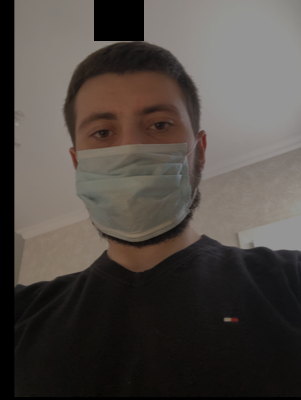with_mask: (74, 97, 200, 250)
